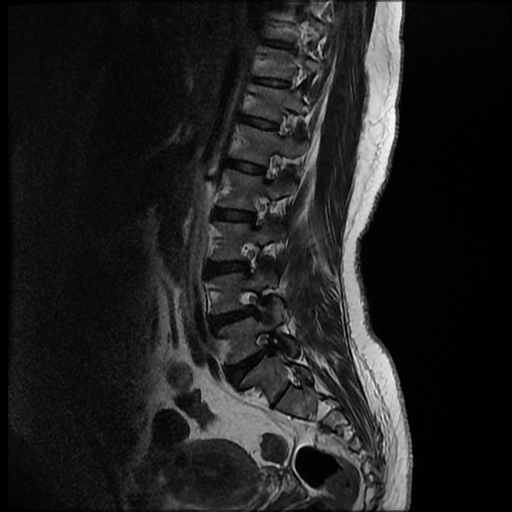RFS0: (231, 235, 266, 280), (243, 189, 278, 234), (254, 143, 289, 188)
RFS1: (231, 279, 270, 322)
RFS3: (243, 323, 292, 365)
